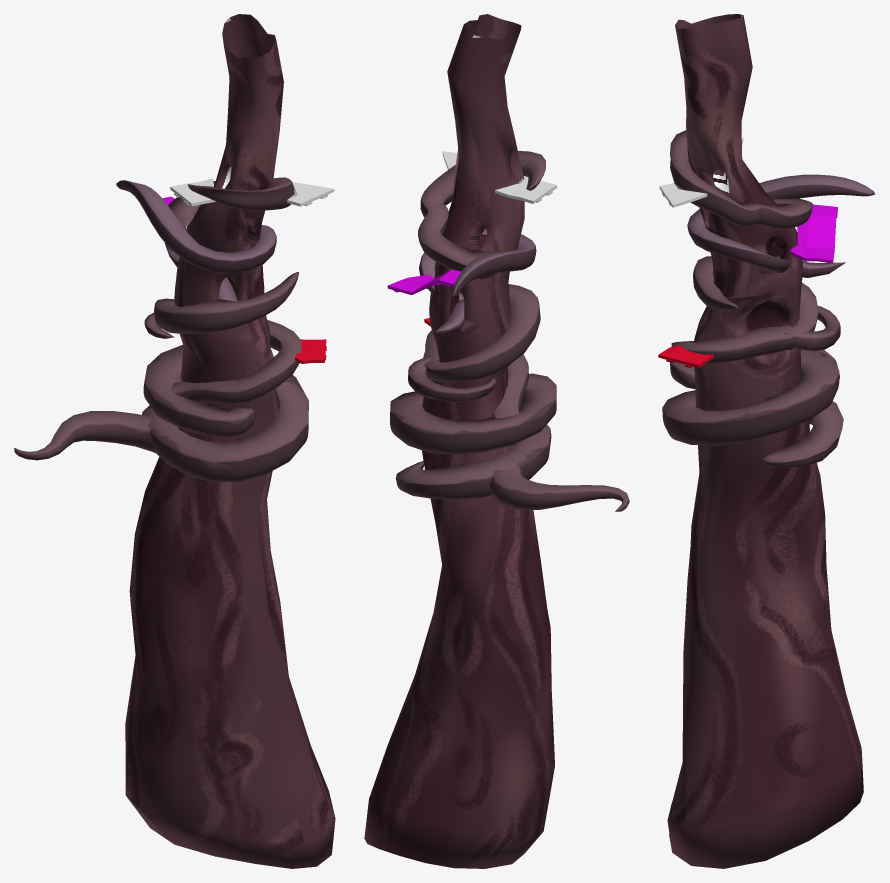
Rendered from NIVEL1_LUCES_arbol.fbx.
3 renders of one model, left to right at view 1: azimuth 30°, elevation 25°; view 2: azimuth 150°, elevation 25°; view 3: azimuth 270°, elevation 25°, orthographic. The views are drawn at different scales.
Parts seen in each view (by area): view 1: arbol, rama, rama.002, rama.005, rama.001, rama.006, plat, plat.003, plat.001; view 2: arbol, rama, rama.002, rama.006, rama.001, rama.005, rama.003, plat.002, plat.001, rama.004; view 3: arbol, rama, rama.002, rama.005, rama.006, plat.002, rama.003, plat.003, plat, rama.004.
Part boxes in pixels (<box>): arbol: <box>125,14,335,868</box>; rama: <box>142,345,308,482</box>; rama.002: <box>154,272,301,404</box>; rama.005: <box>116,180,276,273</box>; rama.001: <box>14,411,155,460</box>; rama.006: <box>168,177,294,230</box>; plat: <box>287,182,334,206</box>; plat.003: <box>295,339,326,363</box>; plat.001: <box>170,178,215,206</box>; arbol: <box>364,14,554,868</box>; rama: <box>390,373,556,499</box>; rama.002: <box>423,284,540,418</box>; rama.006: <box>418,151,545,279</box>; rama.001: <box>490,465,629,511</box>; rama.005: <box>419,228,536,300</box>; rama.003: <box>408,355,495,401</box>; plat.002: <box>387,269,461,294</box>; plat.001: <box>495,176,556,203</box>; rama.004: <box>435,299,464,336</box>; arbol: <box>667,14,863,868</box>; rama: <box>662,349,843,467</box>; rama.002: <box>671,256,818,363</box>; rama.005: <box>687,174,875,273</box>; rama.006: <box>670,130,813,229</box>; plat.002: <box>790,204,837,263</box>; rama.003: <box>784,306,840,350</box>; plat.003: <box>658,345,713,367</box>; plat: <box>659,183,707,207</box>; rama.004: <box>712,256,845,277</box>.
Bounding box in the file's own units: 1476 × 4284 × 1031.
